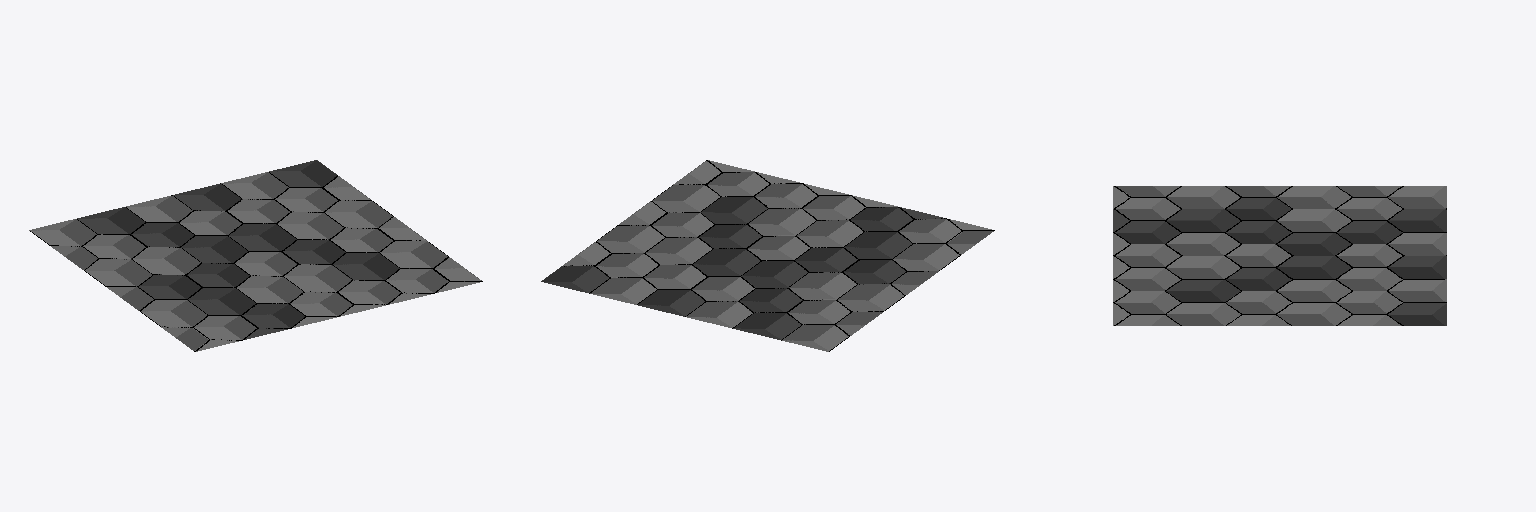
3 renders of one model, left to right at view 1: azimuth 30°, elevation 25°; view 2: azimuth 150°, elevation 25°; view 3: azimuth 270°, elevation 25°, orthographic.
Visible parts, largest first — view 1: グリッド; view 2: グリッド; view 3: グリッド.
Boxes of the visible parts, x1,y1,x2,y2 form: グリッド: [29, 160, 482, 351]; グリッド: [541, 160, 994, 351]; グリッド: [1113, 186, 1446, 325].
Bounding box in the file's own units: 122 × 0 × 122.
Materials: 1 (1 with a texture image).